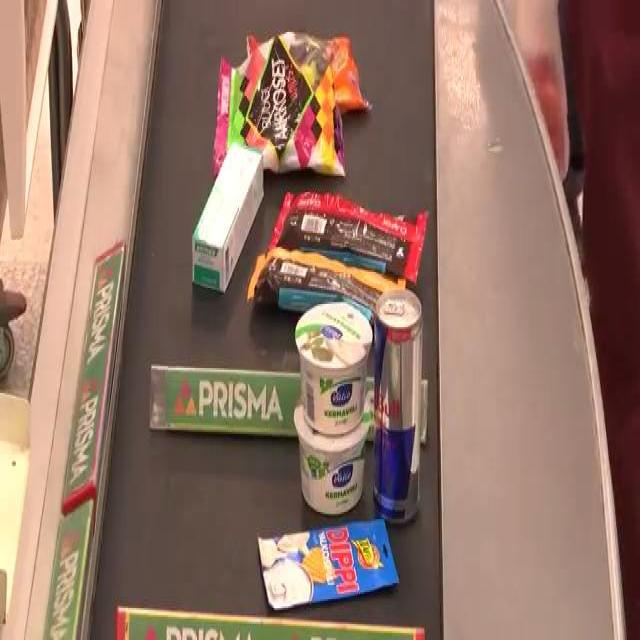beverage: (372, 283, 429, 529), (440, 194, 442, 197)
food-box: (203, 22, 380, 180), (268, 191, 430, 316), (292, 297, 373, 425), (289, 398, 374, 514)
utility-box: (172, 143, 268, 303), (258, 513, 392, 616)
